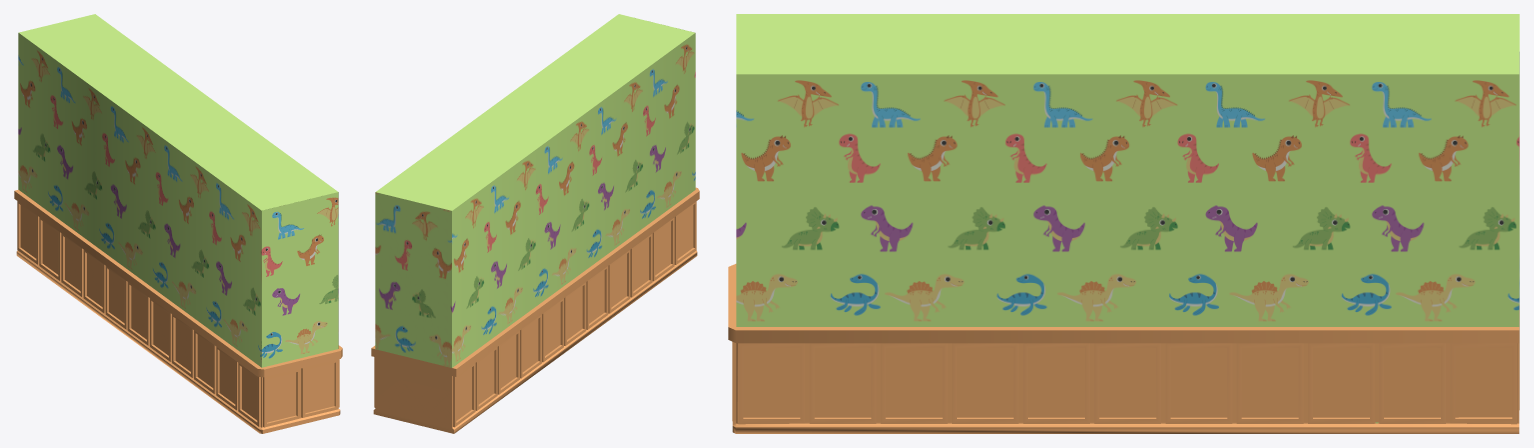
The model's file is kolon2.fbx.
3 renders of one model, left to right at view 1: azimuth 30°, elevation 25°; view 2: azimuth 150°, elevation 25°; view 3: azimuth 270°, elevation 25°, orthographic. The views are drawn at different scales.
Visible parts, largest first — view 1: Cube.060; view 2: Cube.060; view 3: Cube.060.
Part boxes in pixels (x1,y1,x2,y2): Cube.060: (14,14,342,433); Cube.060: (371,14,699,433); Cube.060: (728,14,1519,433).
Bounding box in the file's own units: 382 × 1908 × 953.
